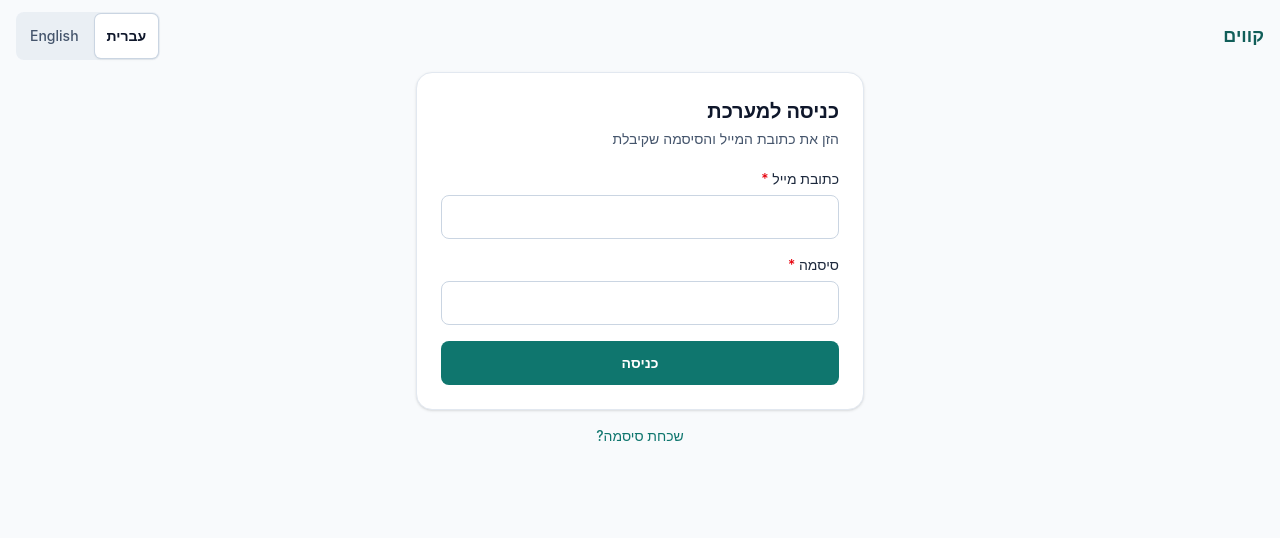
Scenario: Login › explains a lockout with the remaining minutes
The image size is (1280, 538).
Type "worker@example.com" into the field labelled "כתובת מייל *".
click(640, 217); type("worker@example.com")  # box [441,195,839,239]
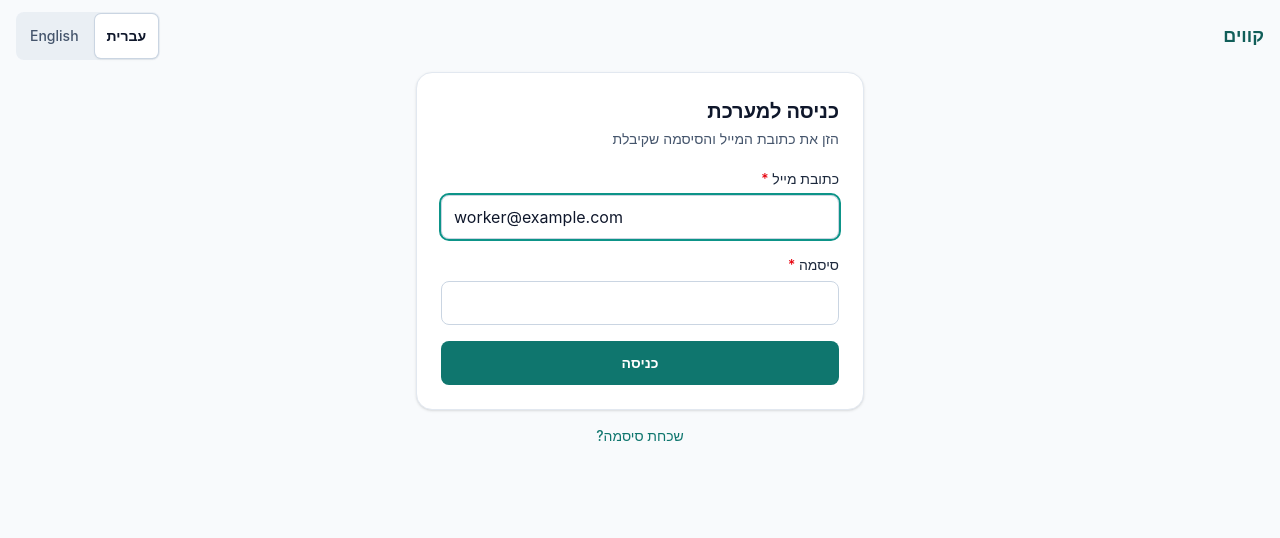
Type "whatever12345" into the password field labelled "סיסמה *".
click(640, 303); type("whatever12345")  # box [441,281,839,325]
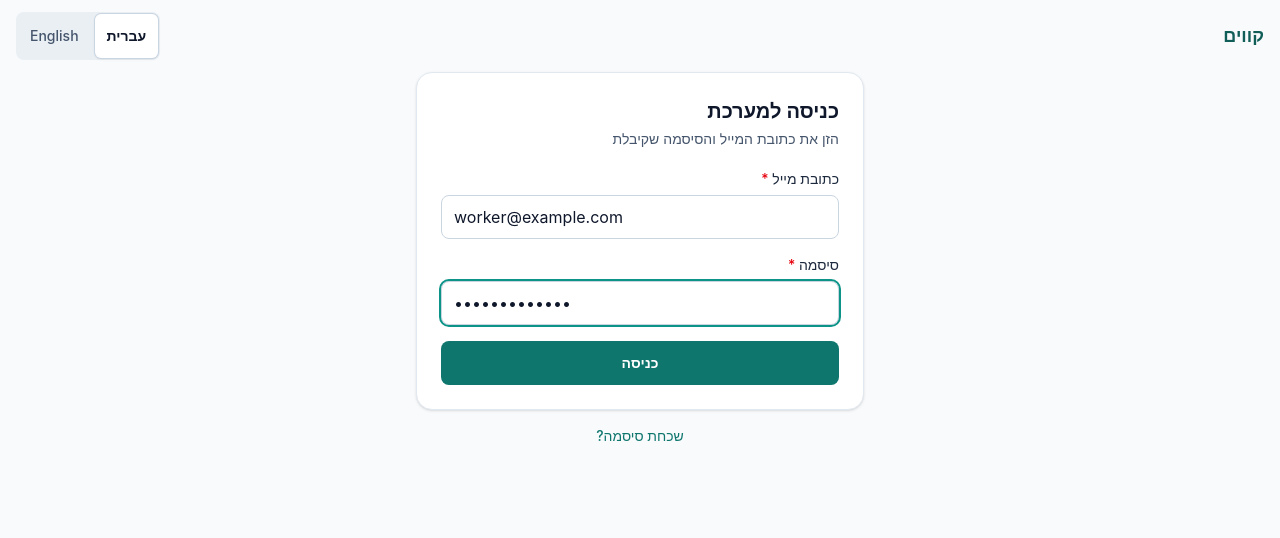
Click the button "כניסה".
click(640, 363)  # box [441,341,839,385]
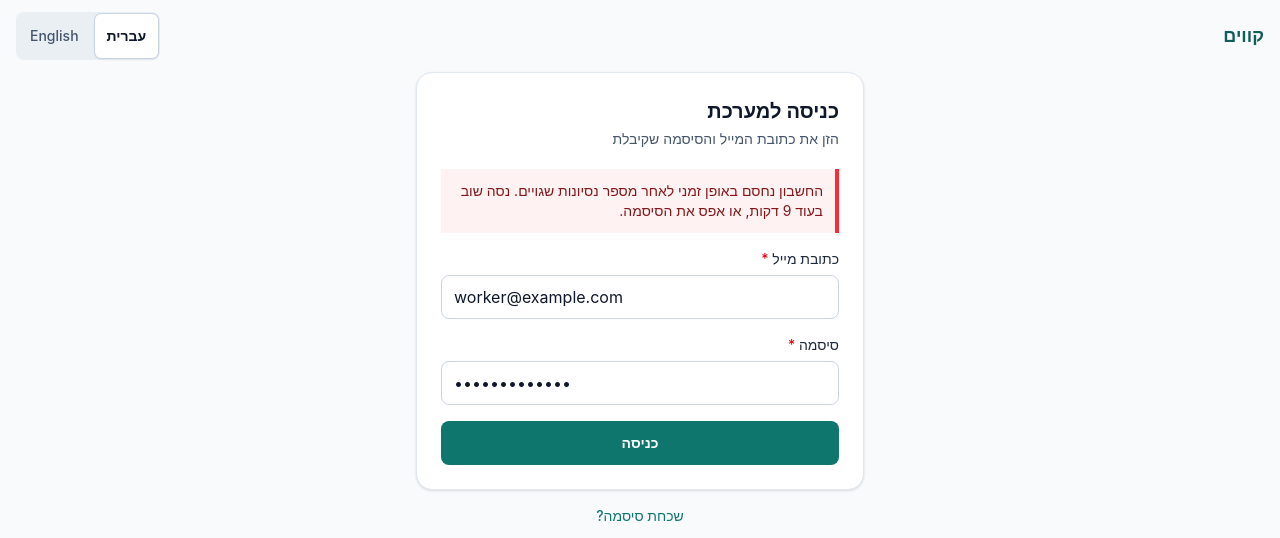
Expected: the message shows "9", [461,182,823,219]
